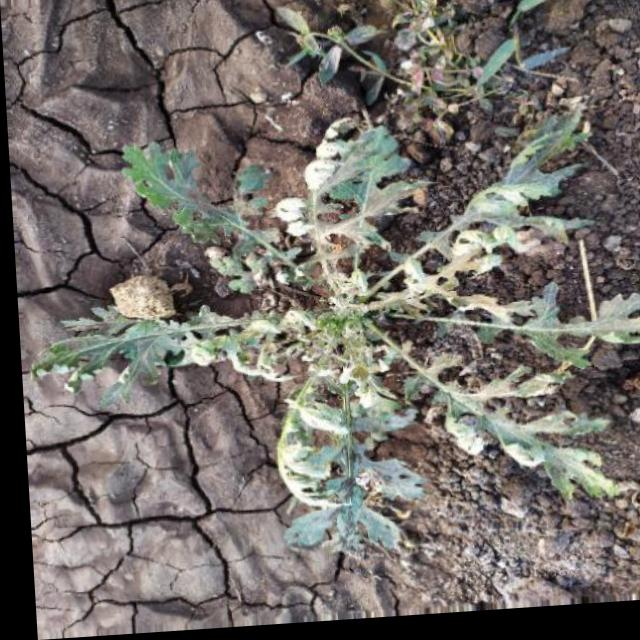weed: (55, 123, 640, 546)
